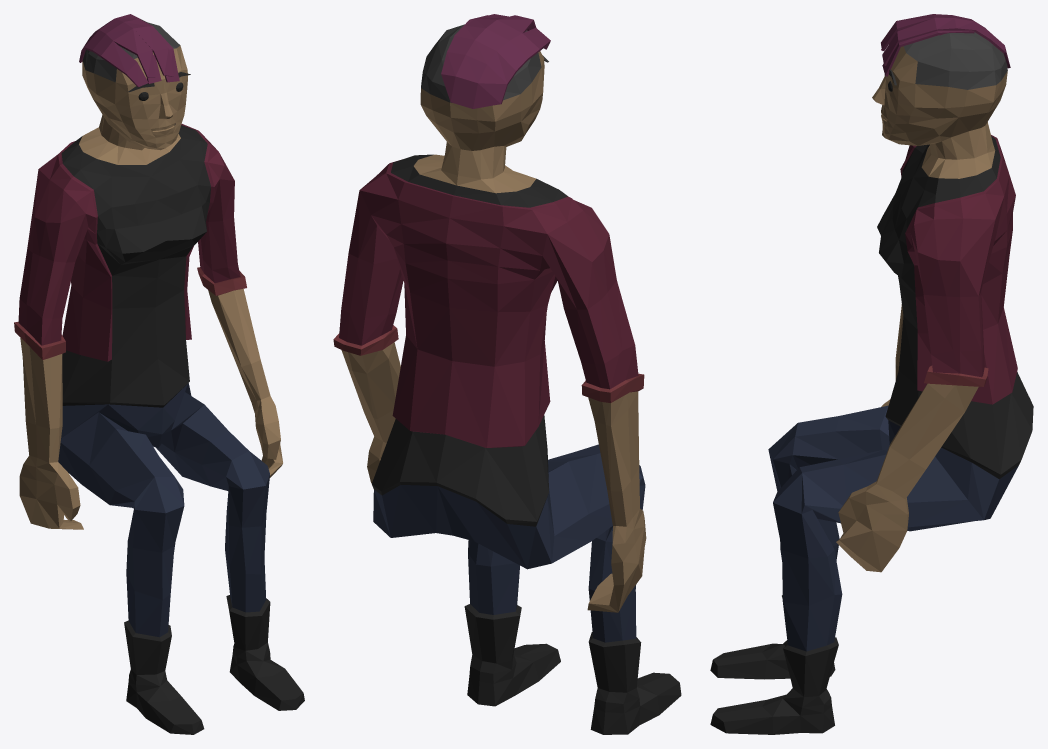
Rendered from woman_seated.glb.
3 renders of one model, left to right at view 1: azimuth 30°, elevation 25°; view 2: azimuth 150°, elevation 25°; view 3: azimuth 270°, elevation 25°, orthographic. The views are drawn at different scales.
Bounding box in the file's own units: 1.49 × 3.82 × 1.65.
